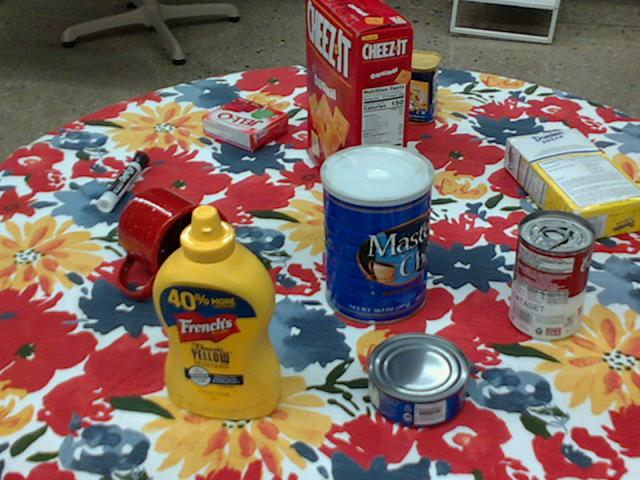cracker_box: (307, 0, 413, 213)
gelatin_box: (200, 97, 288, 152)
large_marker: (95, 151, 147, 211)
master_chef_can: (319, 144, 433, 326)
mug: (115, 188, 231, 298)
mustard_bottle: (151, 204, 281, 418)
potted_meat_can: (363, 46, 442, 123)
sugar_box: (505, 127, 639, 244)
tomato_soup_can: (510, 209, 595, 341)
tuna_fish_can: (363, 333, 466, 429)
